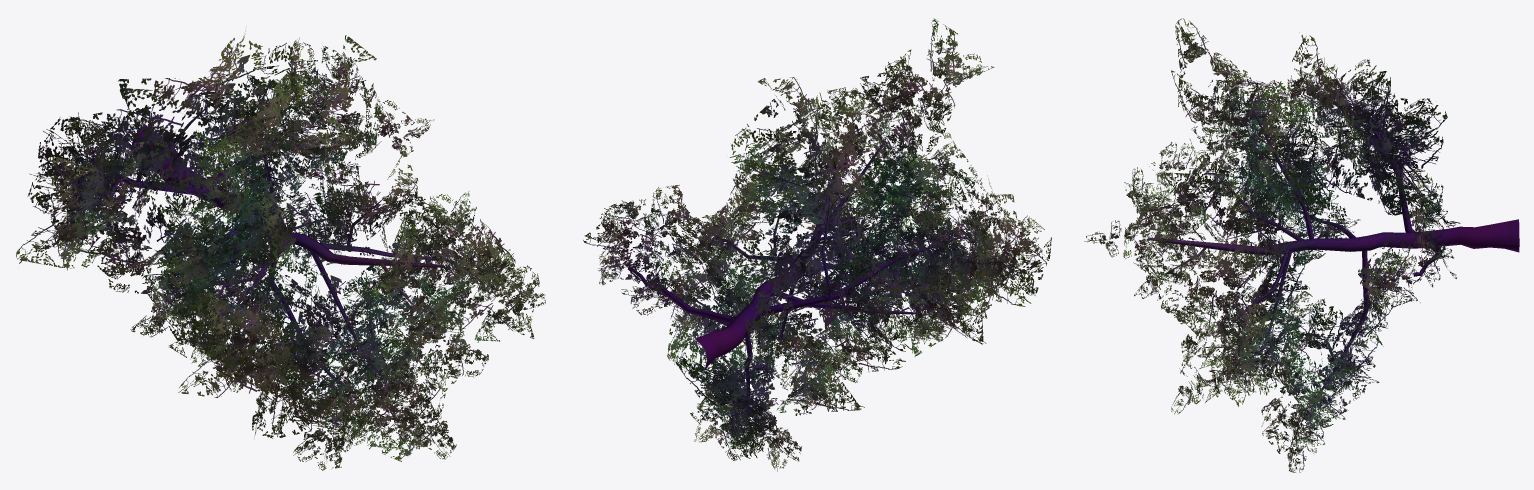
File: oak_big_oak_tree_003_lod2.glb
3 views of the same model, side by side, from view 1: azimuth 30°, elevation 25°; view 2: azimuth 150°, elevation 25°; view 3: azimuth 270°, elevation 25° (orthographic). The views are drawn at different scales.
Visible parts, largest first — view 1: Big_oak_tree__003_LOD2; view 2: Big_oak_tree__003_LOD2; view 3: Big_oak_tree__003_LOD2.
Boxes of the visible parts, x1=… form: Big_oak_tree__003_LOD2: x1=16, y1=31, x2=545, y2=470; Big_oak_tree__003_LOD2: x1=583, y1=18, x2=1051, y2=471; Big_oak_tree__003_LOD2: x1=1084, y1=18, x2=1519, y2=472.
Size of the model in its own units: 19.06 by 19.04 by 19.22.
2 materials, 2 textured.
